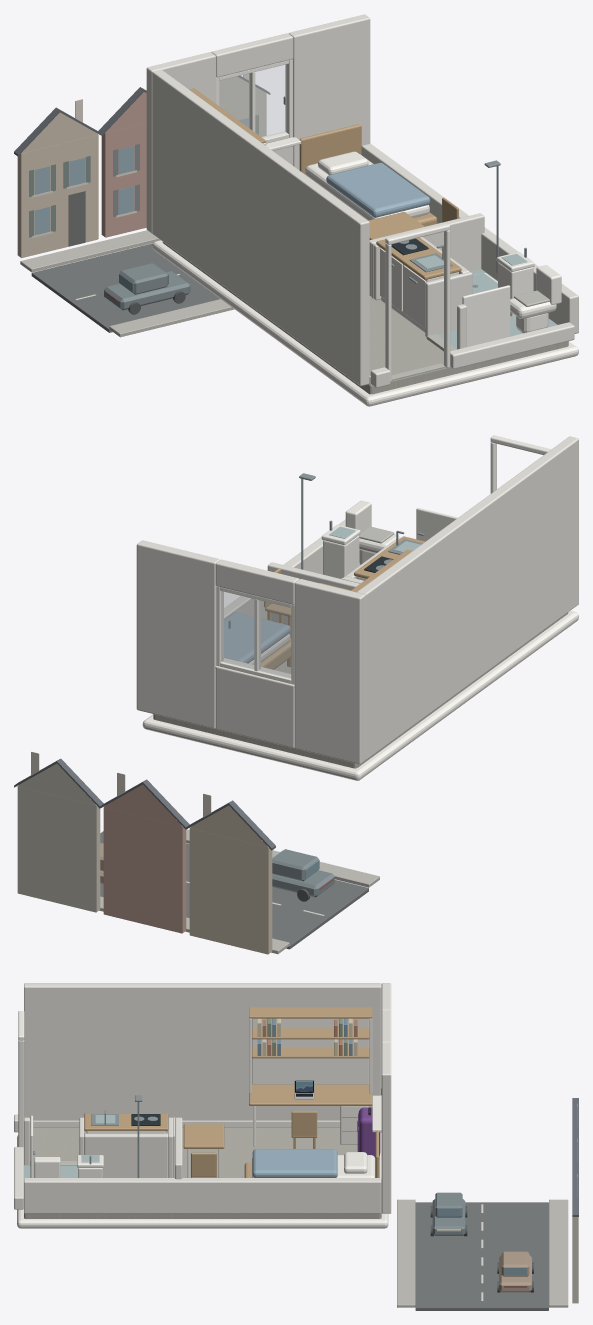
The model's file is room-02.glb.
3 renders of one model, top to bottom at view 1: azimuth 30°, elevation 25°; view 2: azimuth 150°, elevation 25°; view 3: azimuth 270°, elevation 25°, orthographic. The views are drawn at different scales.
Parts seen in each view (by area): view 1: Architecture, Window view, Bed, Bathroom, Window, Kitchen, Entrance, Dining; view 2: Architecture, Window view, Window, Bathroom, Bed, Kitchen, Entrance; view 3: Architecture, Window view, Desk, Bed, Dining, Kitchen, Bathroom, Entrance, Luggage, Desk chair.
Part boxes in pixels (x1=…): Architecture: x1=146, y1=14, x2=578, y2=406; Window view: x1=14, y1=73, x2=270, y2=337; Bed: x1=299, y1=124, x2=437, y2=226; Bathroom: x1=462, y1=160, x2=561, y2=346; Window: x1=216, y1=59, x2=301, y2=150; Kitchen: x1=376, y1=237, x2=461, y2=332; Entrance: x1=385, y1=223, x2=450, y2=381; Dining: x1=368, y1=197, x2=458, y2=239; Architecture: x1=136, y1=436, x2=578, y2=780; Window view: x1=14, y1=751, x2=379, y2=954; Window: x1=215, y1=586, x2=294, y2=687; Bathroom: x1=299, y1=473, x2=457, y2=578; Bed: x1=224, y1=612, x2=291, y2=669; Kitchen: x1=354, y1=530, x2=425, y2=580; Entrance: x1=490, y1=435, x2=551, y2=493; Architecture: x1=14, y1=983, x2=391, y2=1228; Window view: x1=397, y1=1098, x2=578, y2=1310; Desk: x1=249, y1=1007, x2=372, y2=1146; Bed: x1=244, y1=1131, x2=378, y2=1177; Dining: x1=183, y1=1124, x2=224, y2=1177; Kitchen: x1=84, y1=1110, x2=168, y2=1133; Bathroom: x1=30, y1=1095, x2=142, y2=1177; Entrance: x1=18, y1=1011, x2=24, y2=1147; Luggage: x1=357, y1=1107, x2=380, y2=1157; Desk chair: x1=291, y1=1111, x2=317, y2=1148.
Size of the model in its own units: 4.05 by 4.15 by 9.16.
Materials: 49 (1 with a texture image).
